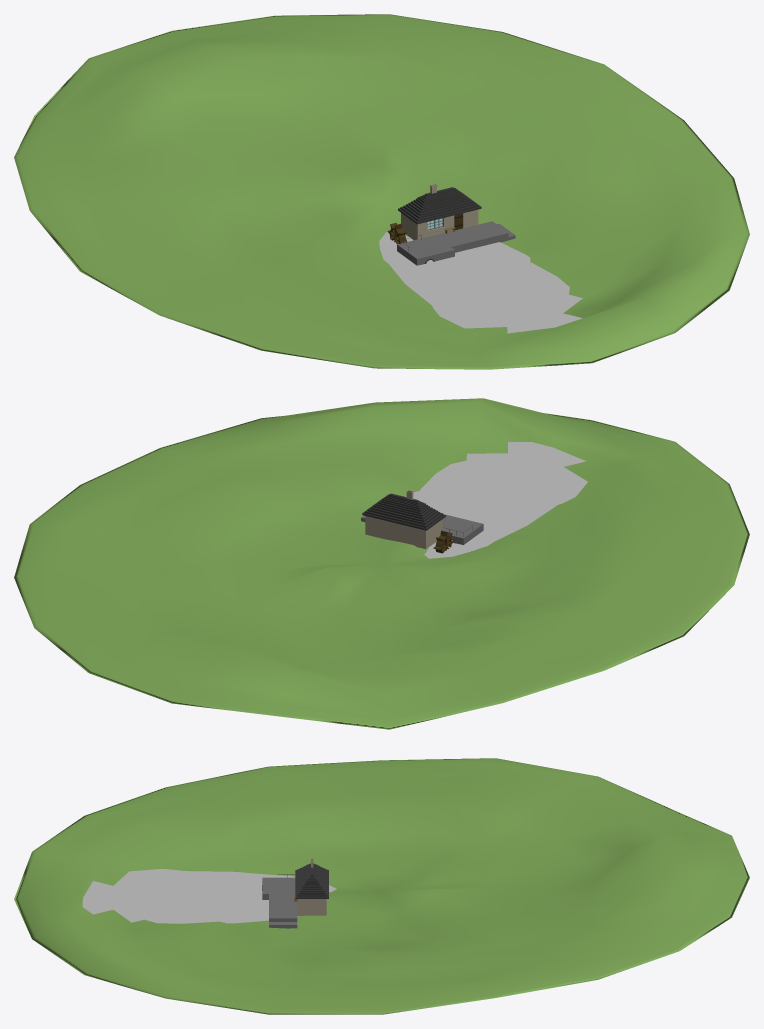
3 renders of one model, top to bottom at view 1: azimuth 30°, elevation 25°; view 2: azimuth 150°, elevation 25°; view 3: azimuth 270°, elevation 25°, orthographic. The views are drawn at different scales.
Visible parts, largest first — view 1: hill, water, housebase, polySurface1; view 2: hill, water, housebase, polySurface1; view 3: hill, water, housebase, polySurface1.
Boxes of the visible parts, x1,y1,x2,y2 form: hill: (14, 14, 749, 369); water: (379, 231, 582, 333); housebase: (398, 184, 481, 240); polySurface1: (397, 221, 515, 265); hill: (14, 398, 749, 729); water: (406, 442, 587, 558); housebase: (362, 490, 445, 549); polySurface1: (361, 515, 483, 544); hill: (14, 758, 749, 1014); water: (82, 869, 336, 923); housebase: (295, 859, 328, 915); polySurface1: (262, 877, 297, 928).
Bounding box in the file's own units: 60.89 × 5.69 × 73.43.
